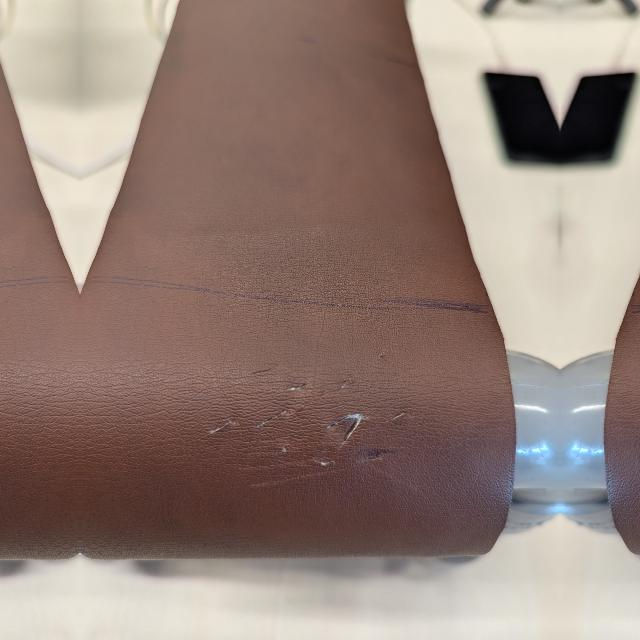belt_crack: (198, 339, 443, 479)
